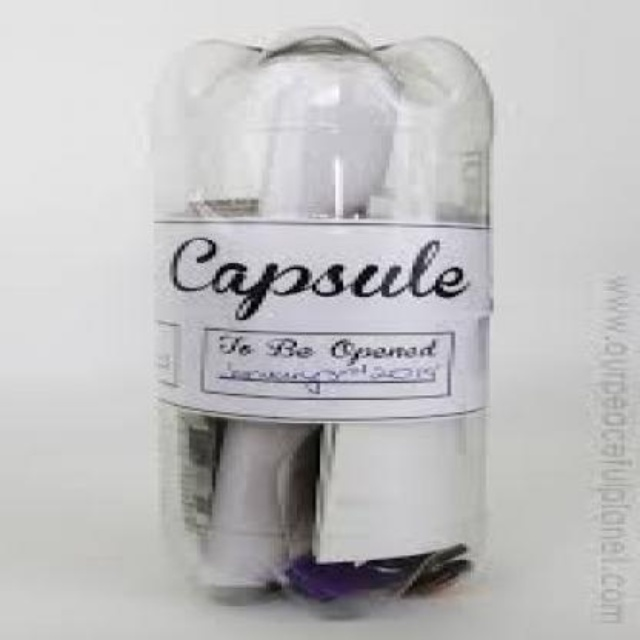trash: (154, 28, 491, 600)
